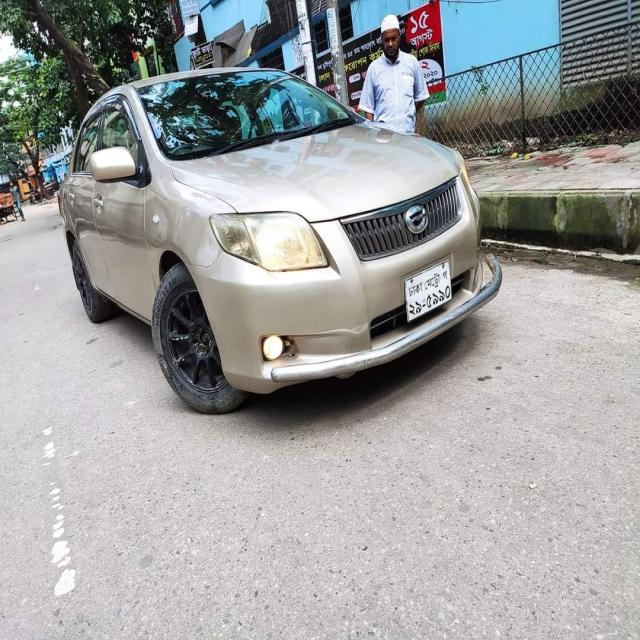silver: (62, 84, 506, 414)
